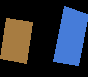parkingspot: (53, 6, 88, 65), (0, 18, 32, 63)
